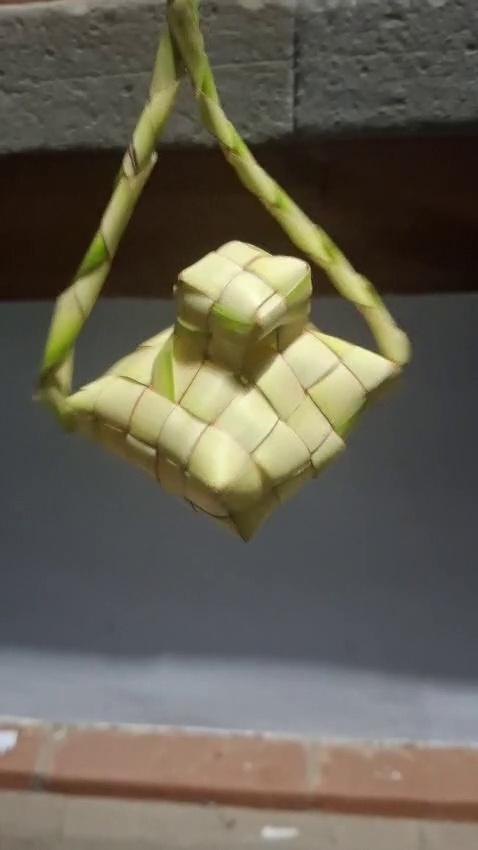Tipat Gong: (40, 0, 410, 538)
